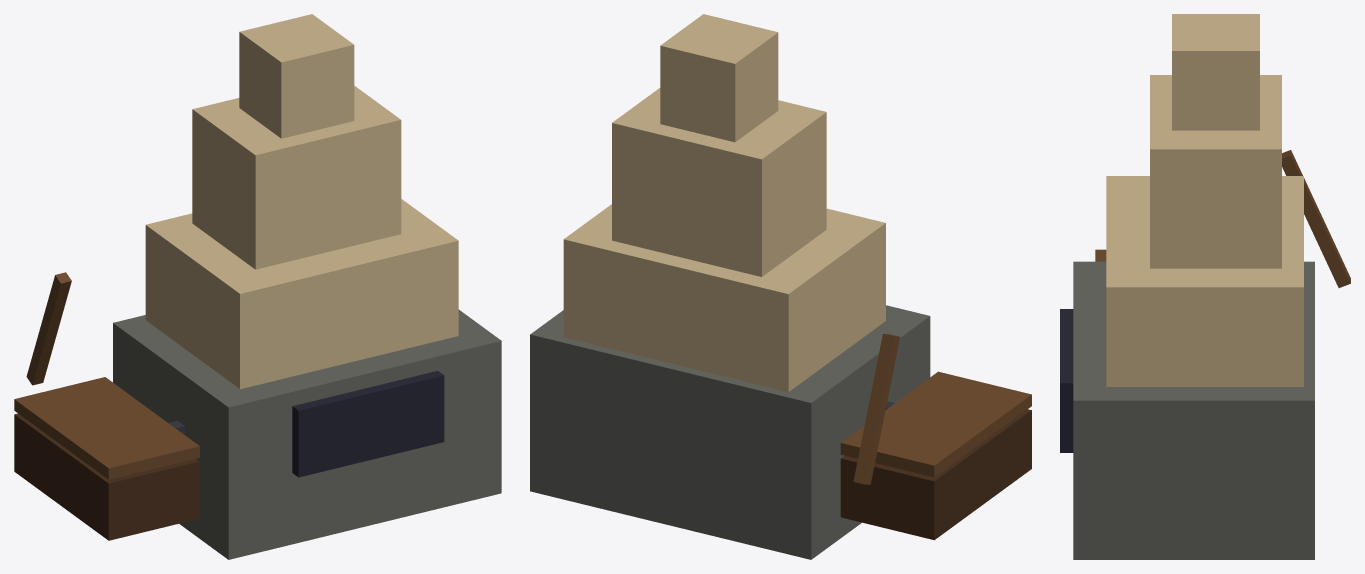
File: prop_forge.glb
3 renders of one model, left to right at view 1: azimuth 30°, elevation 25°; view 2: azimuth 150°, elevation 25°; view 3: azimuth 270°, elevation 25°, orthographic. The views are drawn at different scales.
Visible parts, largest first — view 1: prop_forge; view 2: prop_forge; view 3: prop_forge.
Part boxes in pixels (box(x1,y1,x2,y2)): prop_forge: box(14, 14, 501, 559); prop_forge: box(530, 14, 1031, 559); prop_forge: box(1060, 14, 1350, 559).
Bounding box in the file's own units: 2.1 × 2.3 × 1.32.
